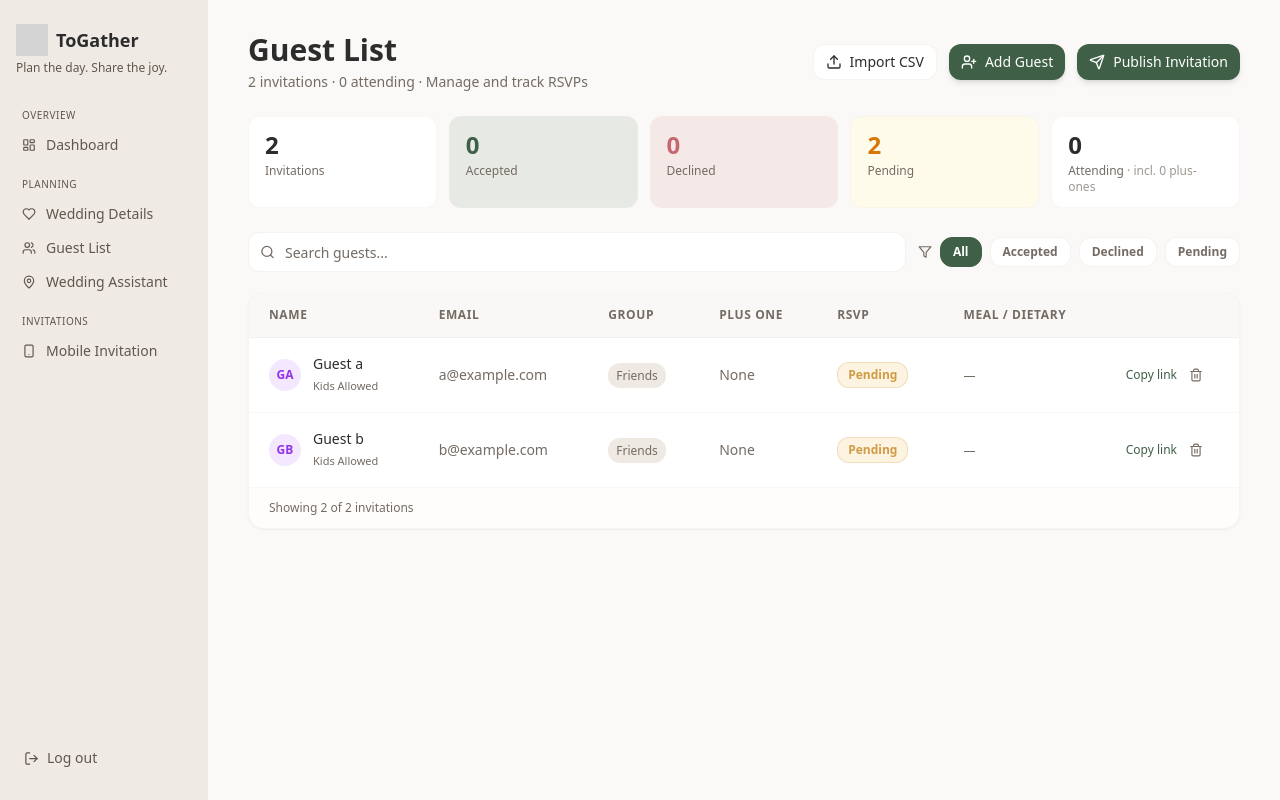
Guest List — confirmation modal › refreshes the invitation and count on open, without publishing
Click the button "Publish Invitation" at (1159, 62), box [1077, 44, 1240, 80]
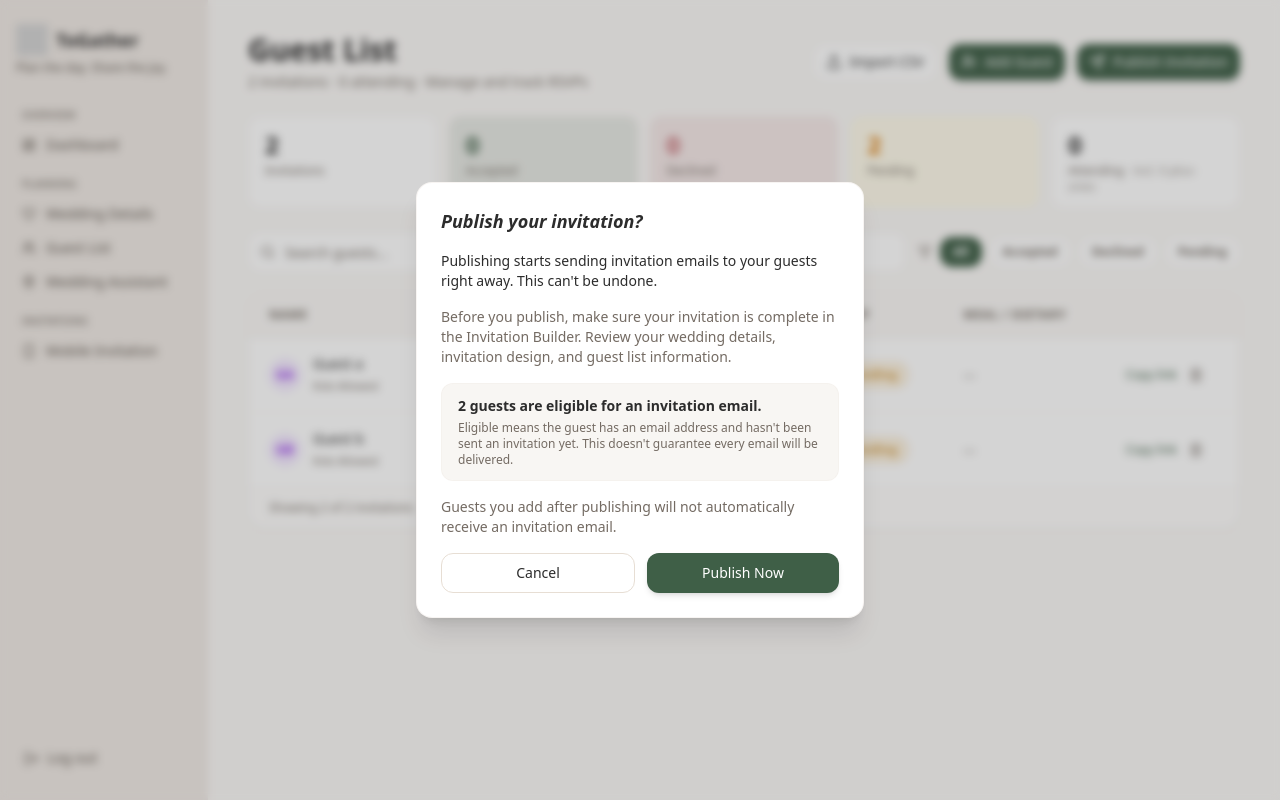
Check: the dialog is shown, box [416, 182, 864, 618]
